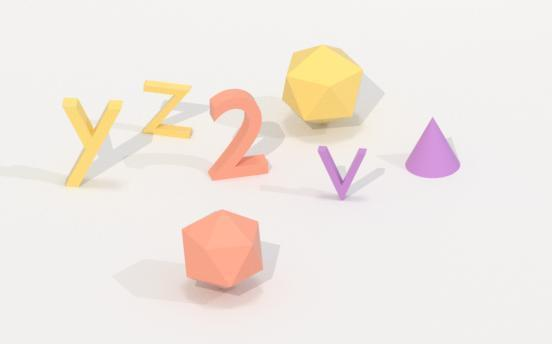chu_khoi: (63, 98, 122, 186), (143, 80, 191, 138), (318, 146, 366, 200)
da_giac: (182, 210, 262, 288), (283, 45, 362, 122)
non: (405, 118, 460, 178)
so_khoi: (208, 89, 268, 179)
